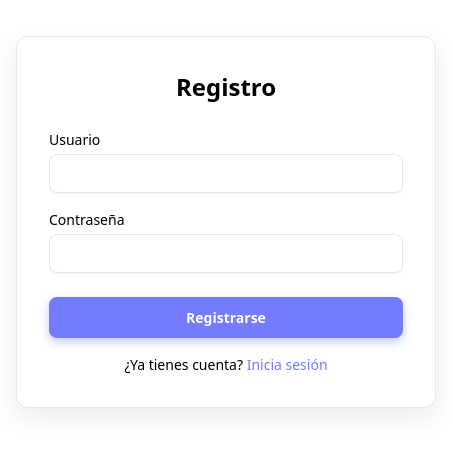
Test case: RegisterPage › muestra el mensaje de error si register falla
In the field labelled "Usuario": (226, 174) [49, 154, 403, 193], type "pepe"
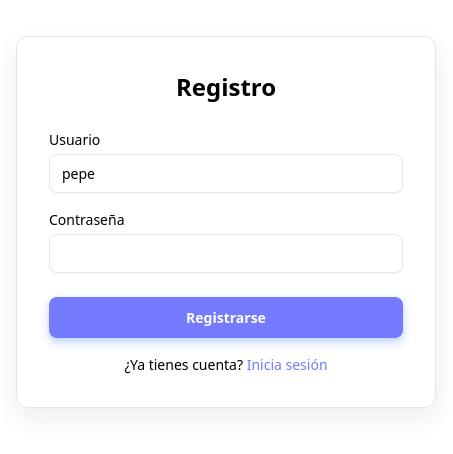
In the password field labelled "Contraseña": (226, 254) [49, 234, 403, 273], type "secreto"
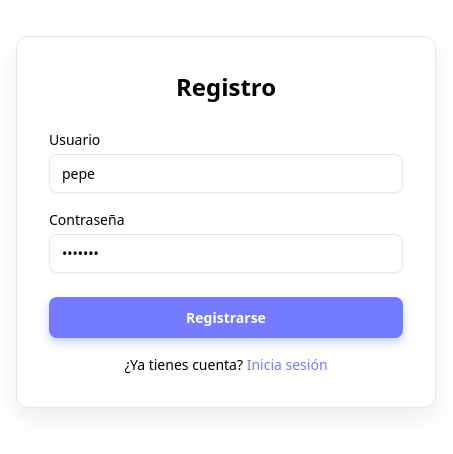
Click the button "Registrarse": (226, 318) [49, 297, 403, 338]
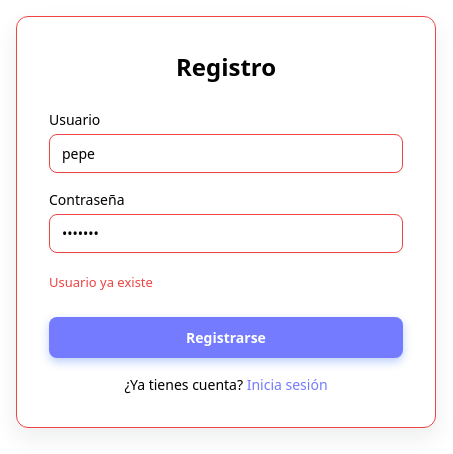
expect the text "Usuario ya existe" is shown: met, box [49, 273, 153, 291]
